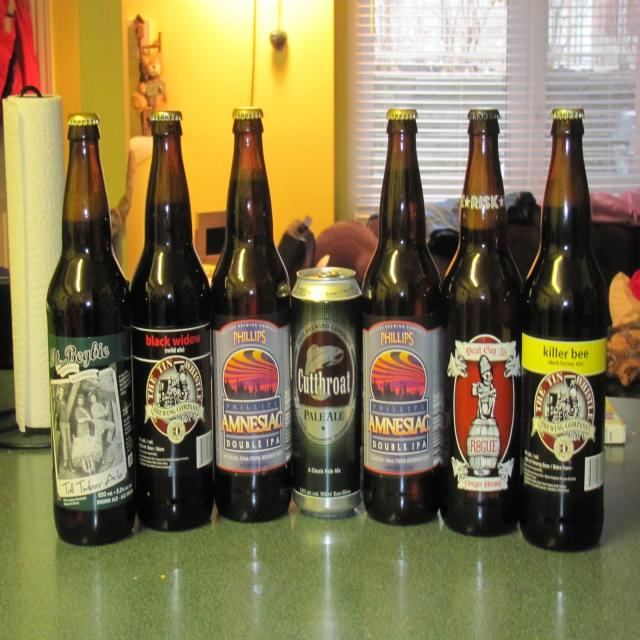can: (294, 266, 365, 515)
glass bottle: (521, 108, 612, 556), (44, 114, 136, 546), (441, 109, 529, 538), (129, 111, 213, 533), (362, 109, 447, 526), (210, 107, 294, 523)
